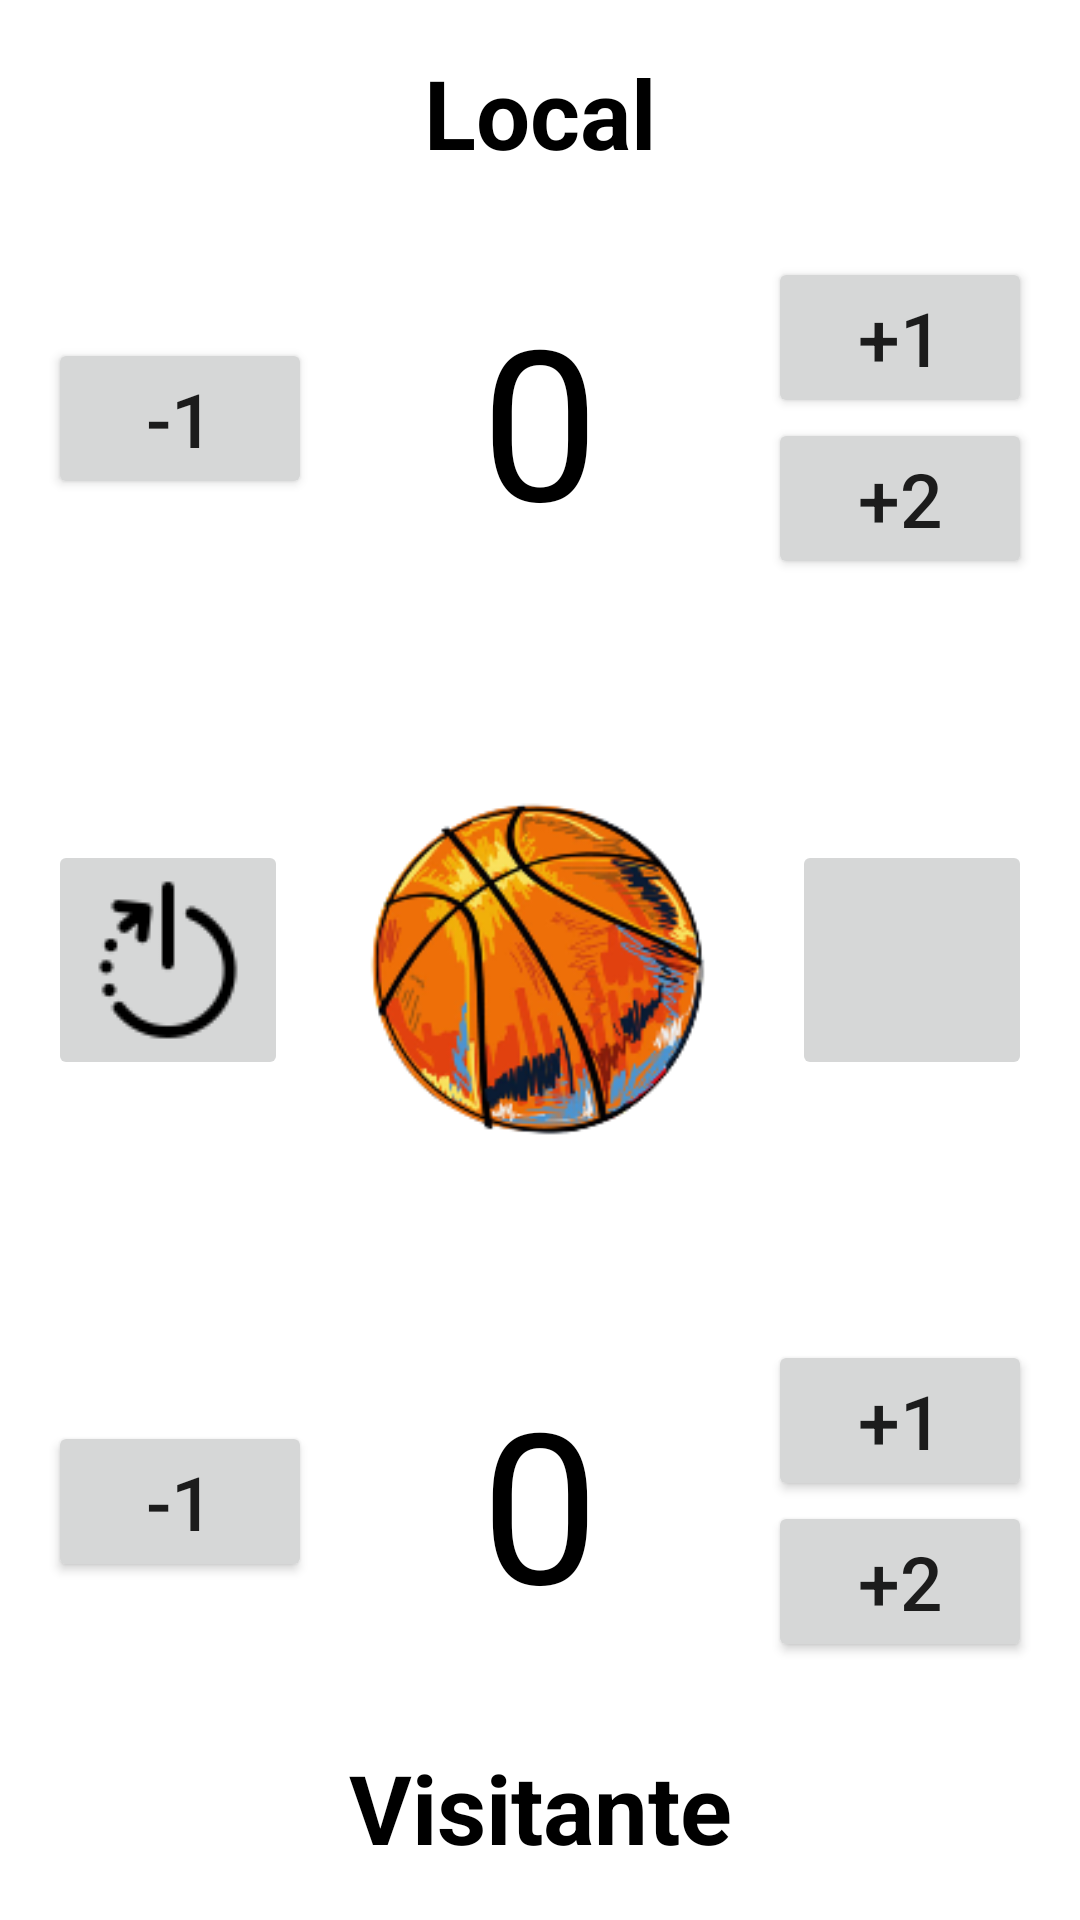

Icons on this 1080 x 1920 Android screen, each with its box as (x1, y1, x2, y2):
basketball: (371, 804, 704, 1135)
reiniciar: (60, 858, 276, 1062)
